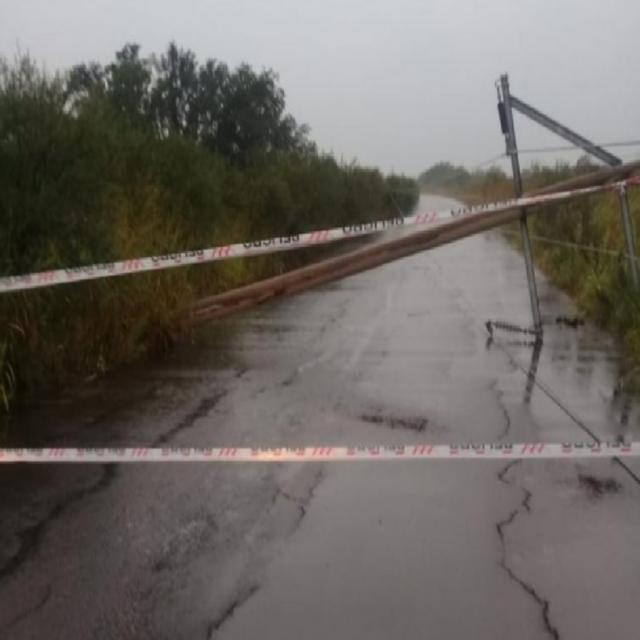Inclined Pole: (148, 66, 640, 349)
